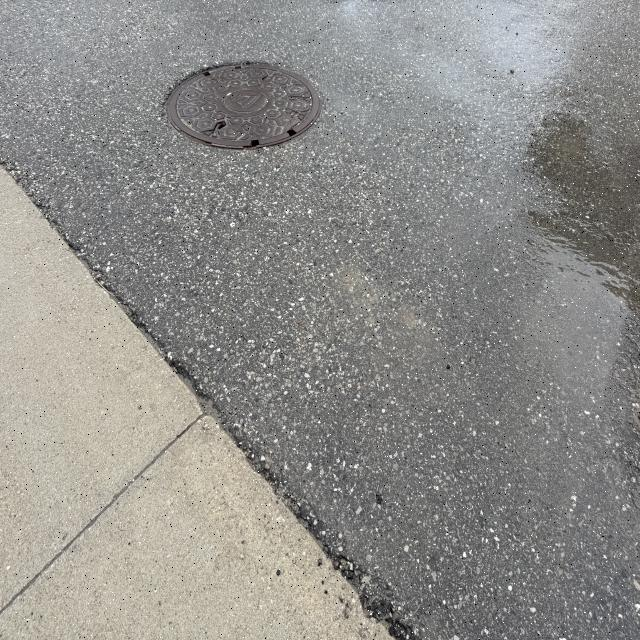Manhole: (164, 58, 324, 154)
